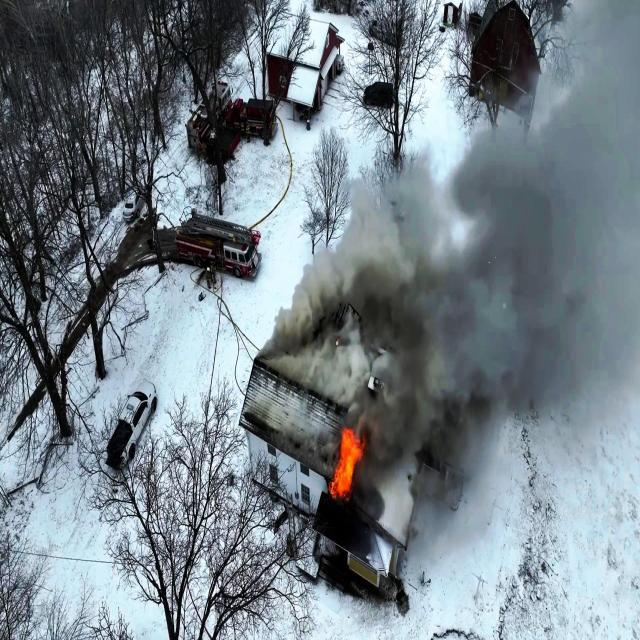Fire: (328, 412, 363, 512)
Smoke: (266, 0, 640, 420)
